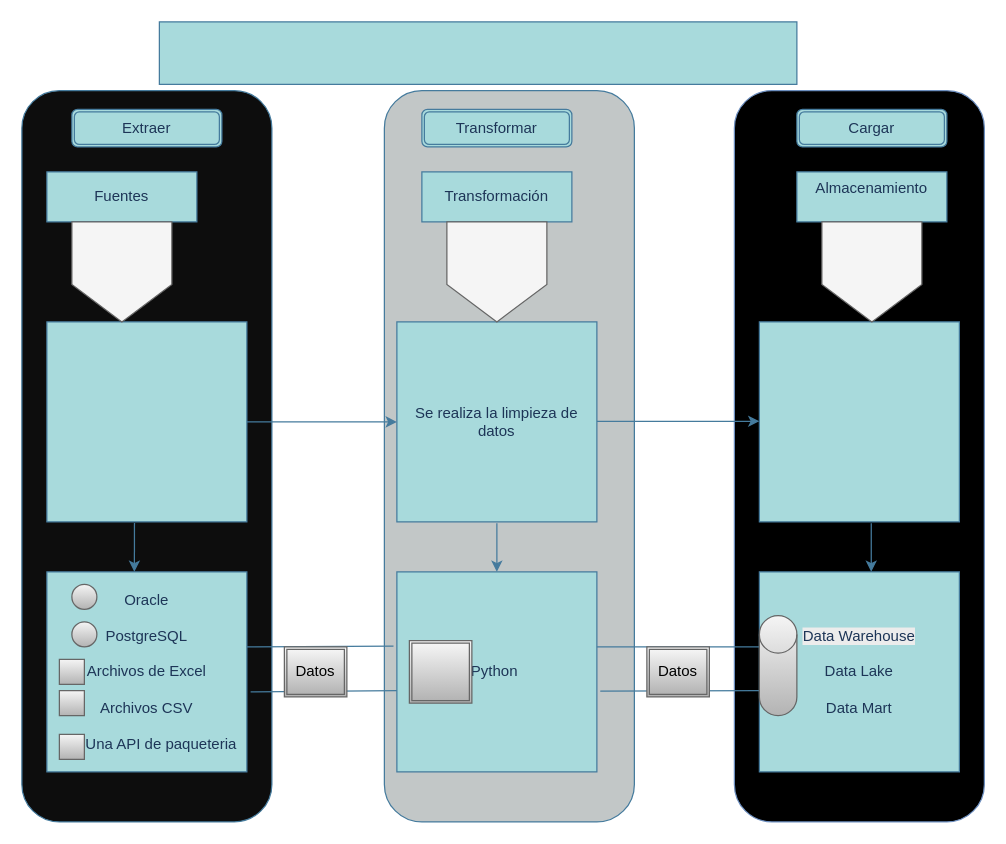
The diagram is 1006 pixels wide and 844 high, and some of its shapes have lost their labels. The shapes that lost their labels are listed below. From the top down, each one's centre as x and y in pixels, then its label:
At (x=477, y=52): "Empresa de Juguetes Nans".
At (x=146, y=421): "De este apartado nacen los datos de donde se extraeran".
At (x=858, y=421): "Se cargan los datos ya transformados a un almacen de datos o bases de datos".
